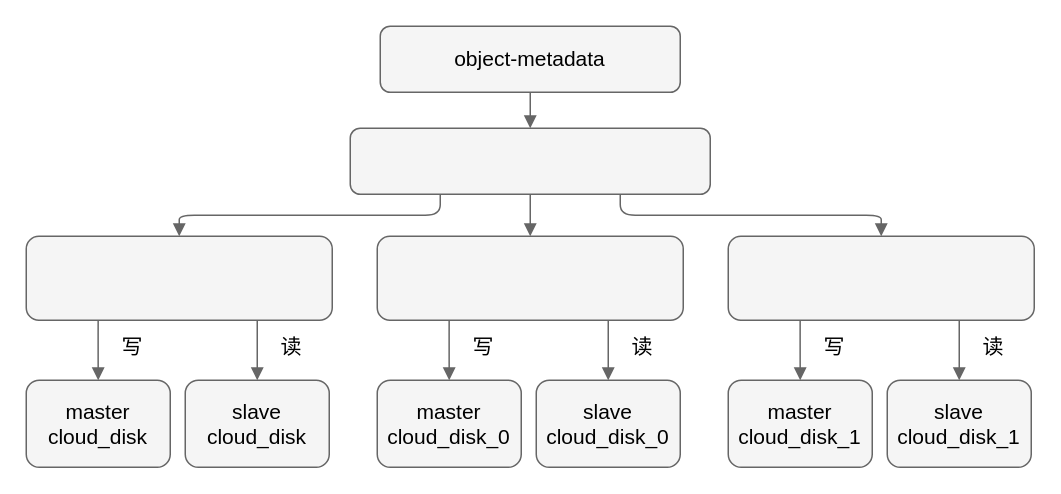
This 1061x494 diagram has some shape labels left out. The centre of each missing label's shape, as x and y in pixels:
rw_0 · object_info bucket_id % 2 = 0: pixel 529 277
rw_1 · object_info bucket_id % 2 = 1: pixel 880 277
rw_default 非分片表: pixel 178 277
ShardingSphere-JDBC: pixel 529 160
